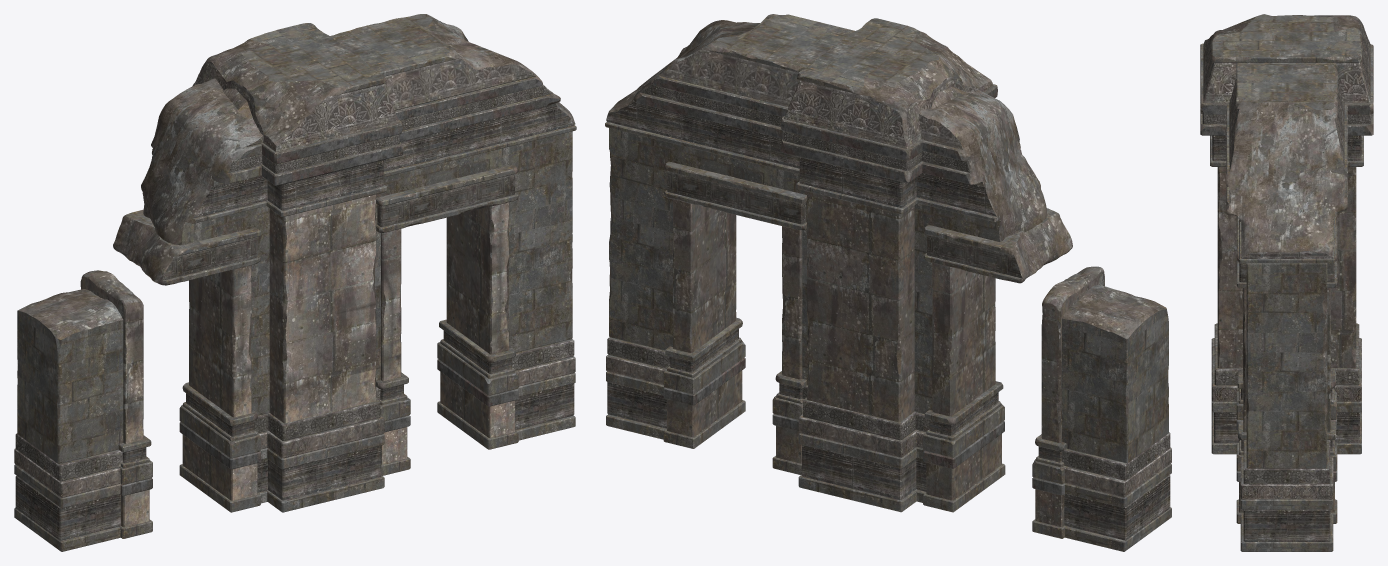
File: cargo_ruin_b.glb
The picture shows the model from 3 angles, left to right: view 1: azimuth 30°, elevation 25°; view 2: azimuth 150°, elevation 25°; view 3: azimuth 270°, elevation 25°; orthographic projection. The views are drawn at different scales.
Visible parts, largest first — view 1: KB3D_SOL_PropRuin_B_001, KB3D_SOL_PropRuin_B_Side; view 2: KB3D_SOL_PropRuin_B_001, KB3D_SOL_PropRuin_B_Side; view 3: KB3D_SOL_PropRuin_B_001.
Part boxes in pixels (x1,y1,x2,y2): KB3D_SOL_PropRuin_B_001: (113, 14, 576, 512); KB3D_SOL_PropRuin_B_Side: (14, 270, 152, 551); KB3D_SOL_PropRuin_B_001: (605, 14, 1072, 512); KB3D_SOL_PropRuin_B_Side: (1032, 266, 1171, 551); KB3D_SOL_PropRuin_B_001: (1200, 14, 1373, 551).
Bounding box in the file's own units: 15 × 11.4 × 4.5.
Materials: 4 (4 with a texture image).
